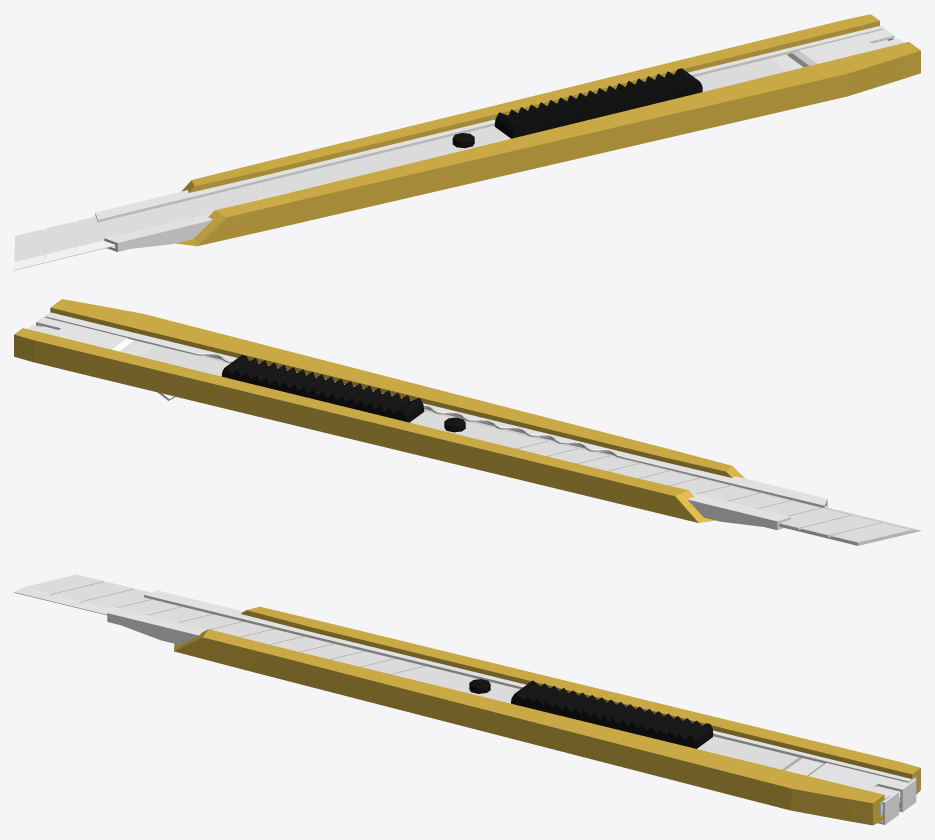
The model's file is utilityknife_fbx.fbx.
The picture shows the model from 3 angles, top to bottom: view 1: azimuth 30°, elevation 25°; view 2: azimuth 150°, elevation 25°; view 3: azimuth 330°, elevation 25°; orthographic projection. The views are drawn at different scales.
Visible parts, largest first — view 1: M_UK_YPlastic, M_UK_Blade, M_UK_BladeCover, M_UK_PlasticPartA, M_UK_Hanger; view 2: M_UK_YPlastic, M_UK_Blade, M_UK_BladeCover, M_UK_PlasticPartA, M_UK_Hanger; view 3: M_UK_YPlastic, M_UK_Blade, M_UK_BladeCover, M_UK_PlasticPartA, M_UK_Hanger.
Part boxes in pixels (x1,y1,x2,y2): M_UK_YPlastic: (176,14,920,246); M_UK_Blade: (14,58,787,270); M_UK_BladeCover: (95,26,902,251); M_UK_PlasticPartA: (494,68,702,138); M_UK_Hanger: (787,25,904,67); M_UK_YPlastic: (14,299,744,522); M_UK_Blade: (140,345,920,545); M_UK_BladeCover: (42,312,827,530); M_UK_PlasticPartA: (221,355,424,422); M_UK_Hanger: (27,312,175,400); M_UK_YPlastic: (174,606,920,825); M_UK_Blade: (14,574,802,770); M_UK_BladeCover: (107,590,916,815); M_UK_PlasticPartA: (511,680,713,748); M_UK_Hanger: (807,763,916,824).
Size of the model in its own units: 149 by 6.88 by 16.14.
